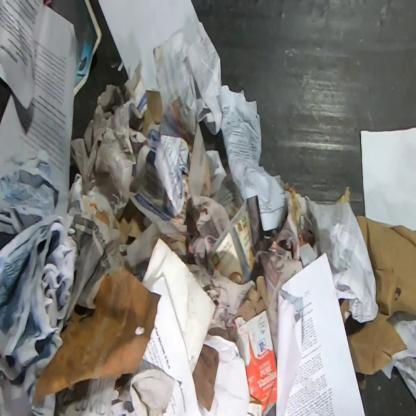cardboard: (336, 186, 415, 398), (230, 310, 277, 415), (140, 88, 163, 139)
rigid_plastic: (205, 198, 256, 285)
